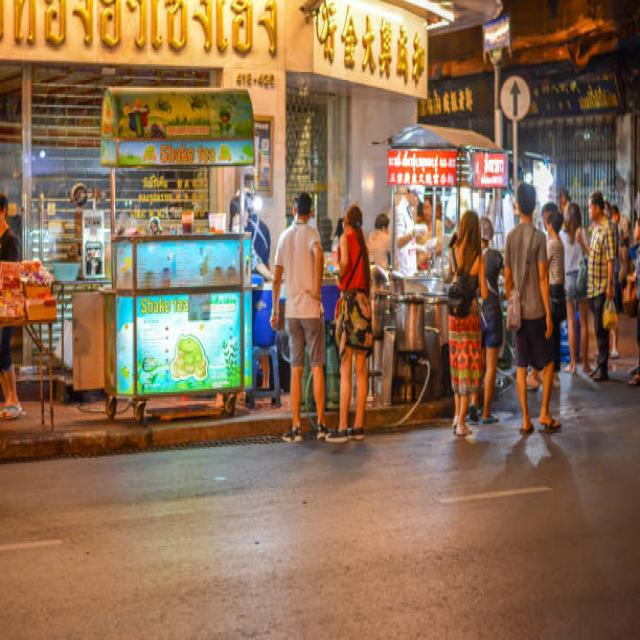Emperan: (76, 76, 285, 430), (360, 106, 540, 376)
